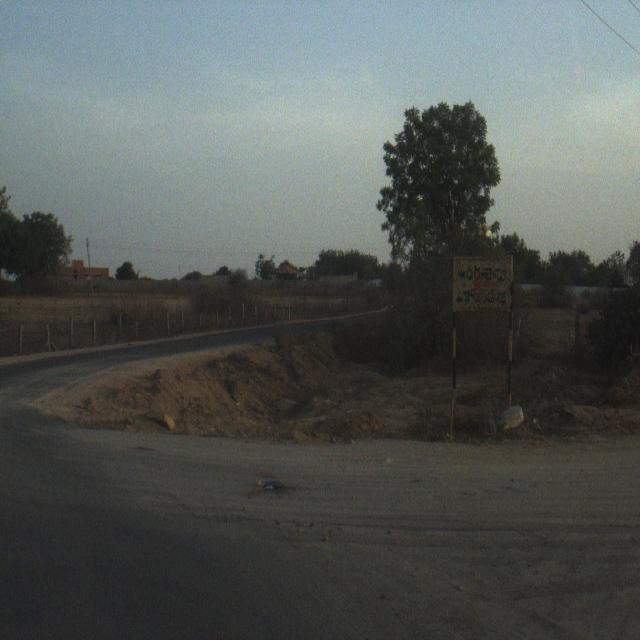Pothole: (485, 575, 605, 640), (232, 457, 312, 540)
